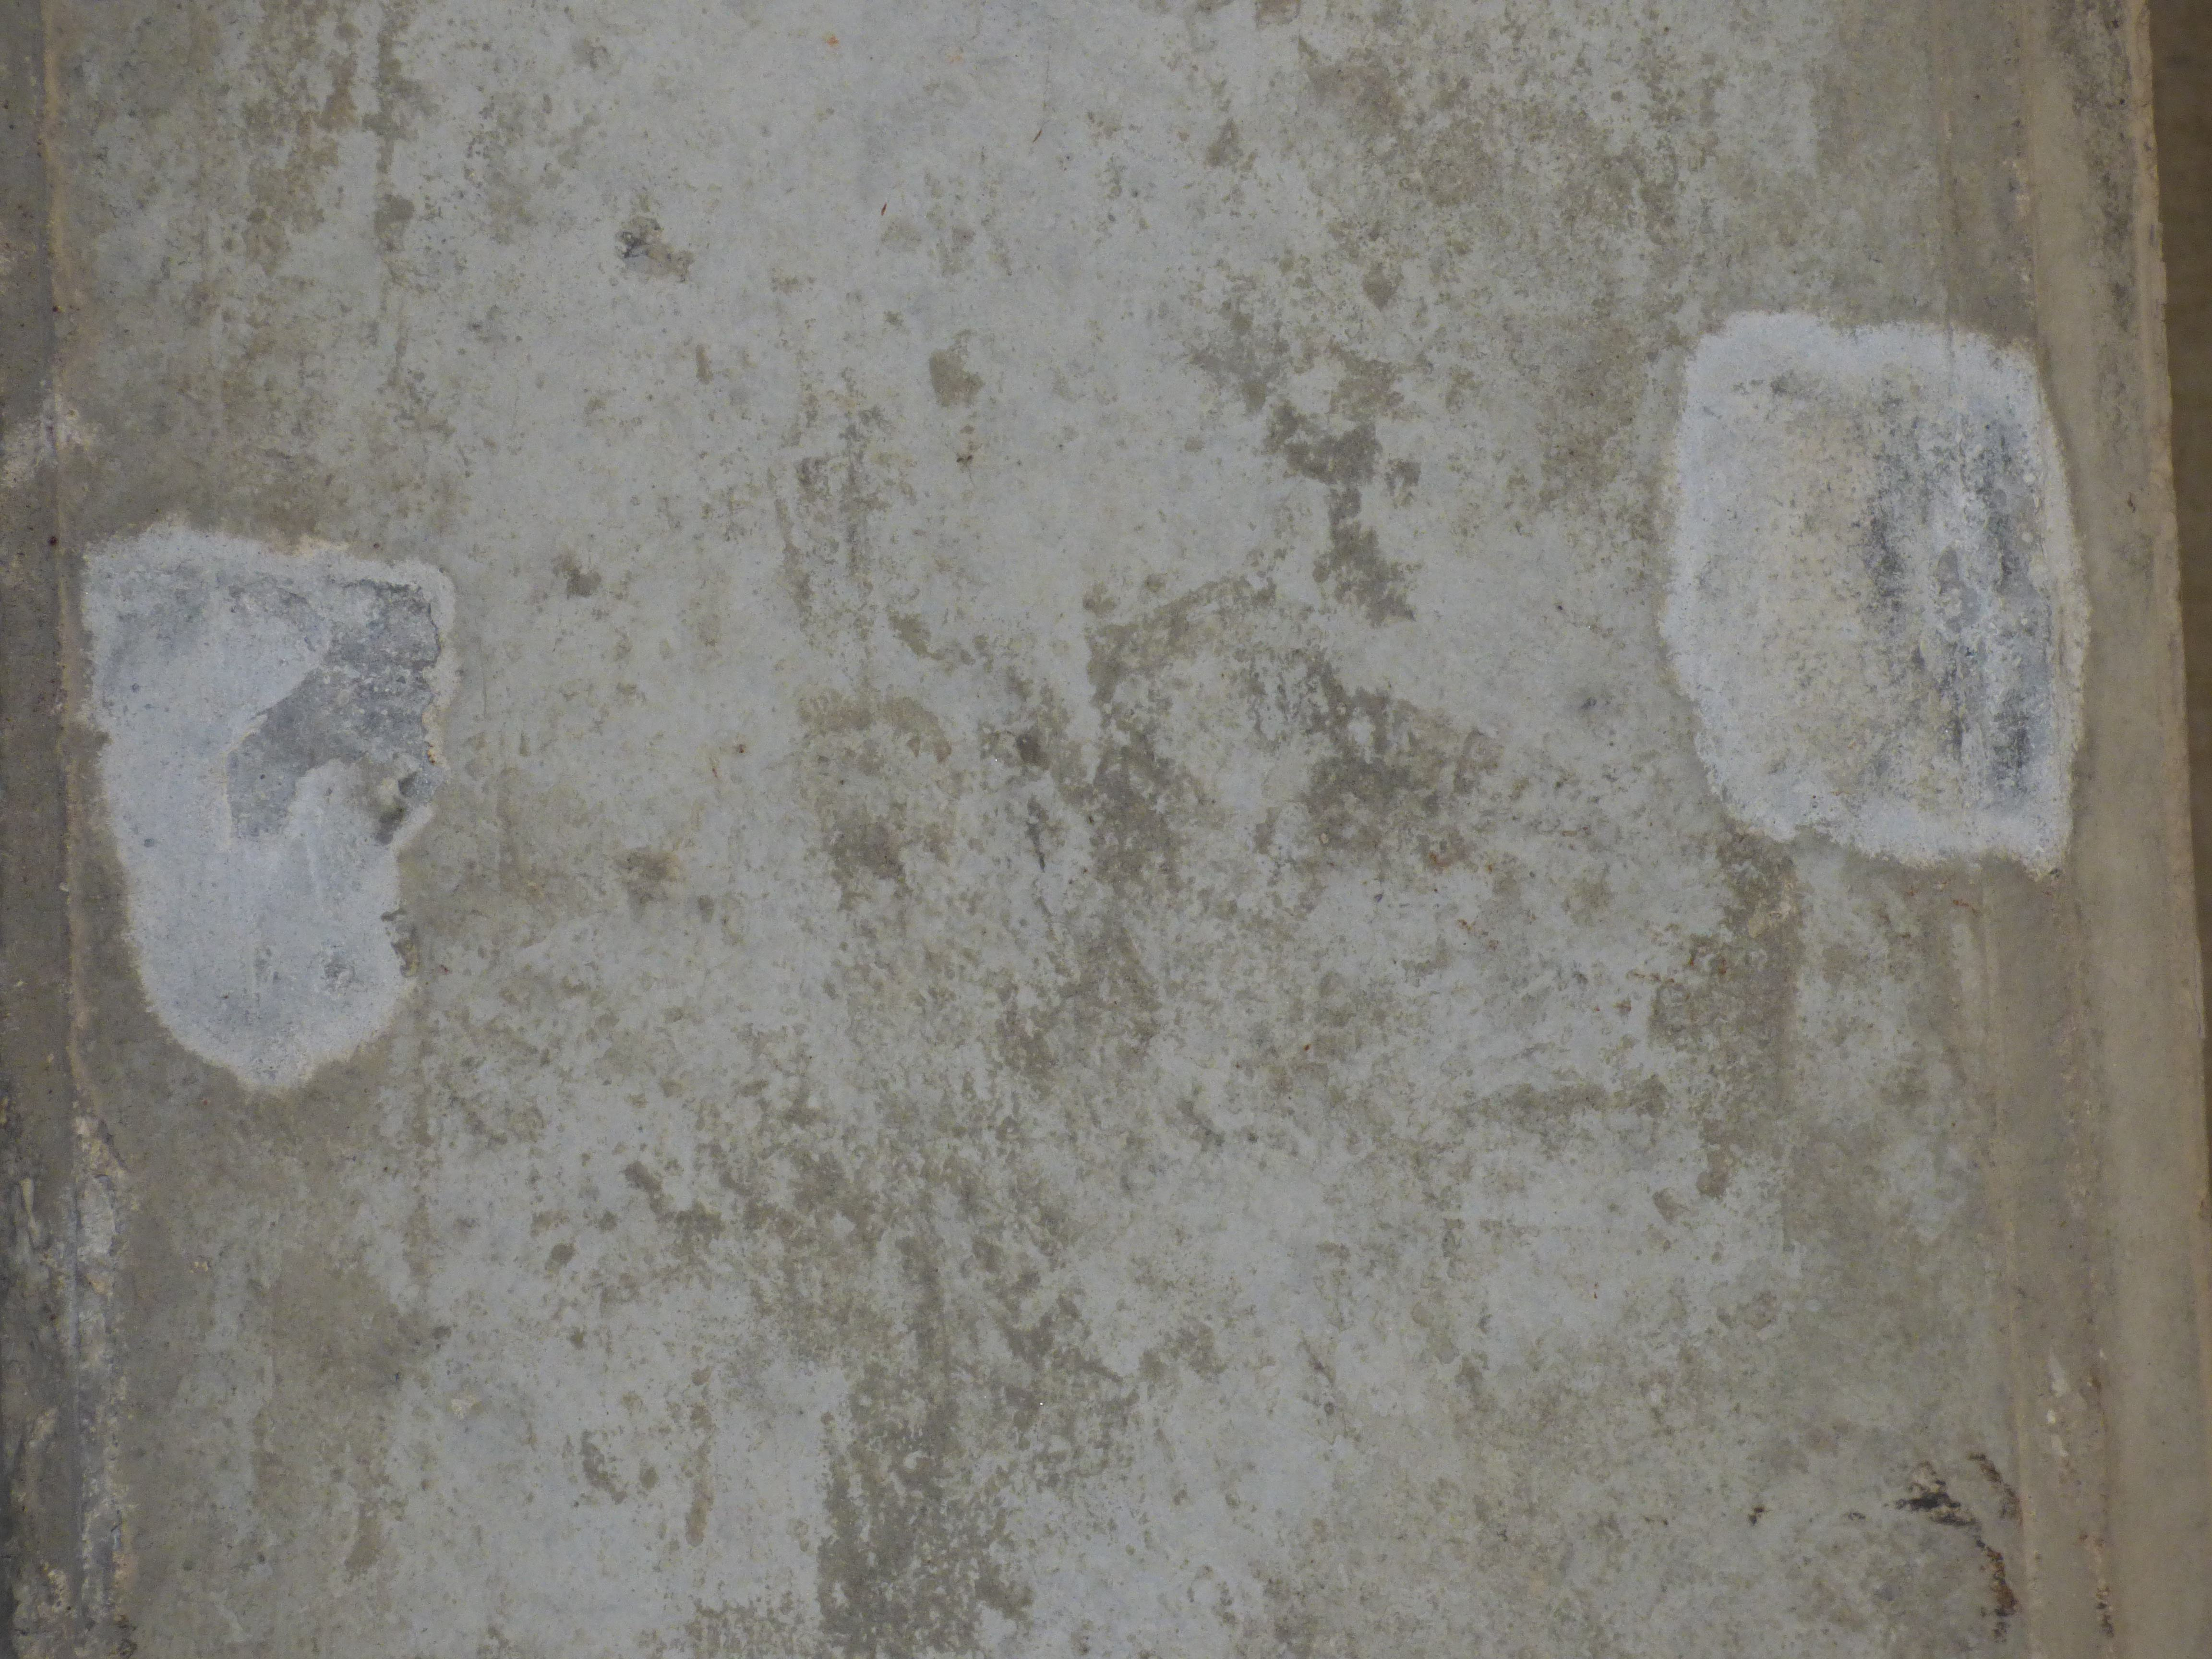Corrosion: (1656, 307, 2088, 880), (85, 523, 458, 1096)
Spalling: (226, 579, 439, 840), (1895, 1450, 2020, 1640)
